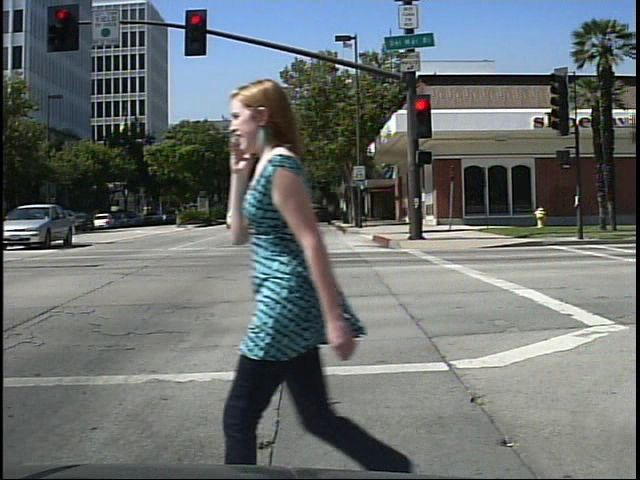person: (236, 80, 432, 480)
